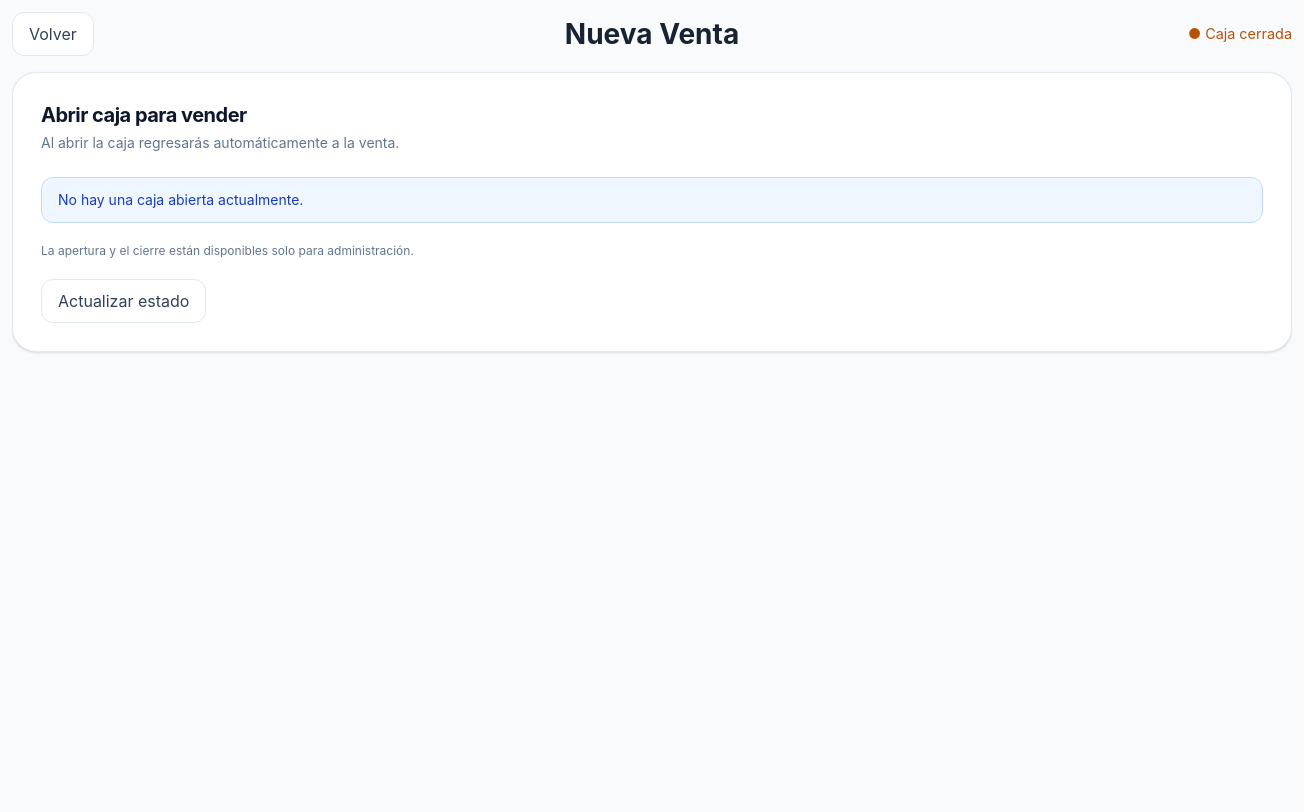
Scenario: SalesPage sequential flow › allows vendors to resume after administration opens, without granting opening permission
Expected: the text "No hay una caja abierta actualmente." is shown, [41,177,1263,223]
Click the button "Actualizar estado": x=124, y=301 [41,279,206,323]
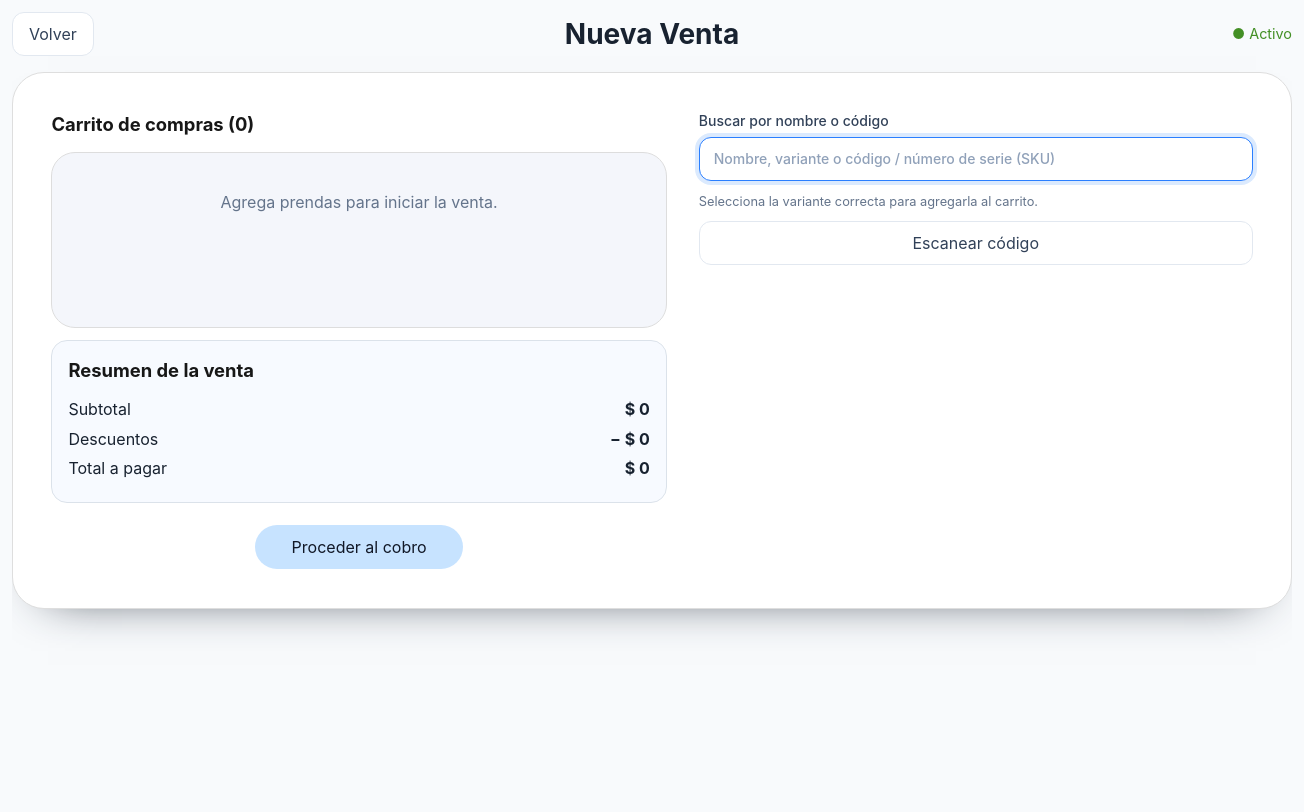
Now the field labelled "Buscar por nombre o código" is shown, box [699,137,1253,181]
